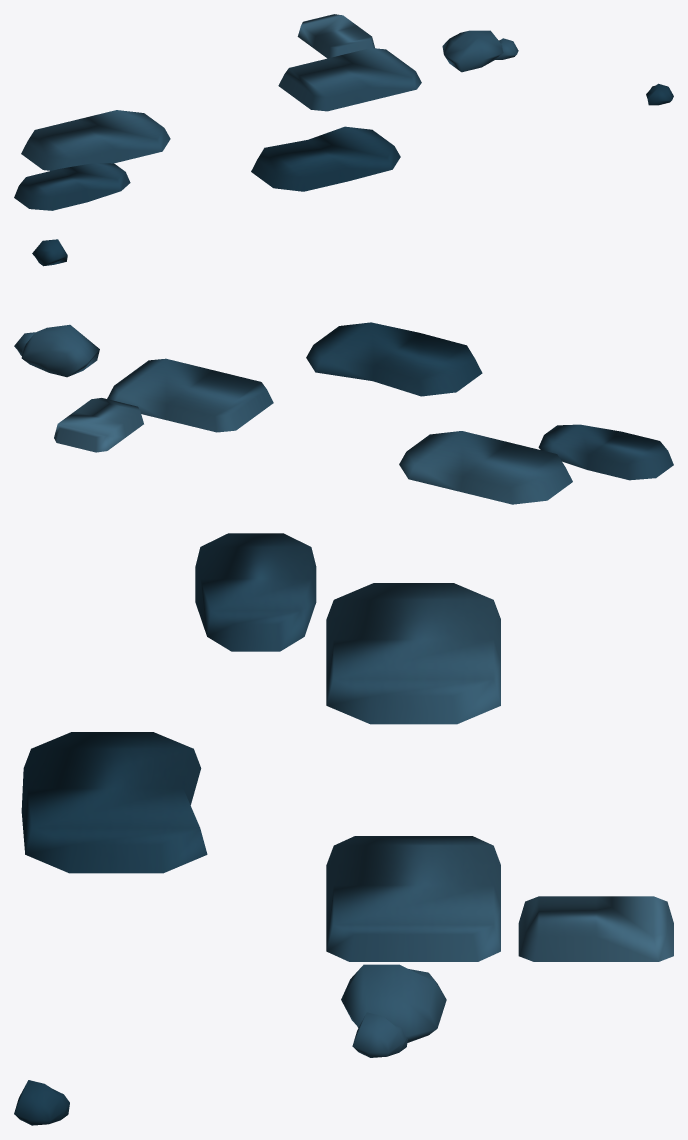
Rendered from Cobblestones.fbx.
The picture shows the model from 3 angles, top to bottom: view 1: azimuth 30°, elevation 25°; view 2: azimuth 150°, elevation 25°; view 3: azimuth 270°, elevation 25°; orthographic projection. The views are drawn at different scales.
Parts seen in each view (by area): view 1: pCube5, pCube1, pCube3, pCube2, pCube4, pasted__polySurface6, pasted__polySurface9; view 2: pCube5, pCube1, pCube3, pCube2, pCube4, pasted__polySurface6, pasted__polySurface9; view 3: pCube5, pCube1, pCube3, pCube2, pCube4, pasted__polySurface6, pasted__polySurface9.
Part boxes in pixels (x1,y1,x2,y2): pCube5: [251, 126, 400, 191]; pCube1: [21, 110, 170, 170]; pCube3: [278, 48, 421, 111]; pCube2: [14, 163, 130, 210]; pCube4: [297, 14, 374, 58]; pasted__polySurface6: [442, 30, 518, 72]; pasted__polySurface9: [646, 83, 673, 105]; pCube5: [306, 322, 482, 396]; pCube1: [399, 431, 572, 504]; pCube3: [107, 358, 273, 432]; pCube2: [538, 424, 673, 480]; pCube4: [54, 398, 143, 452]; pasted__polySurface6: [14, 324, 99, 377]; pasted__polySurface9: [32, 239, 67, 266]; pCube5: [21, 732, 207, 873]; pCube1: [326, 583, 500, 724]; pCube3: [326, 836, 500, 961]; pCube2: [195, 533, 316, 651]; pCube4: [518, 896, 673, 961]; pasted__polySurface6: [341, 964, 446, 1057]; pasted__polySurface9: [14, 1080, 69, 1125].
Size of the model in its own units: 6 by 0.27 by 2.9.
Materials: 1 (1 with a texture image).
